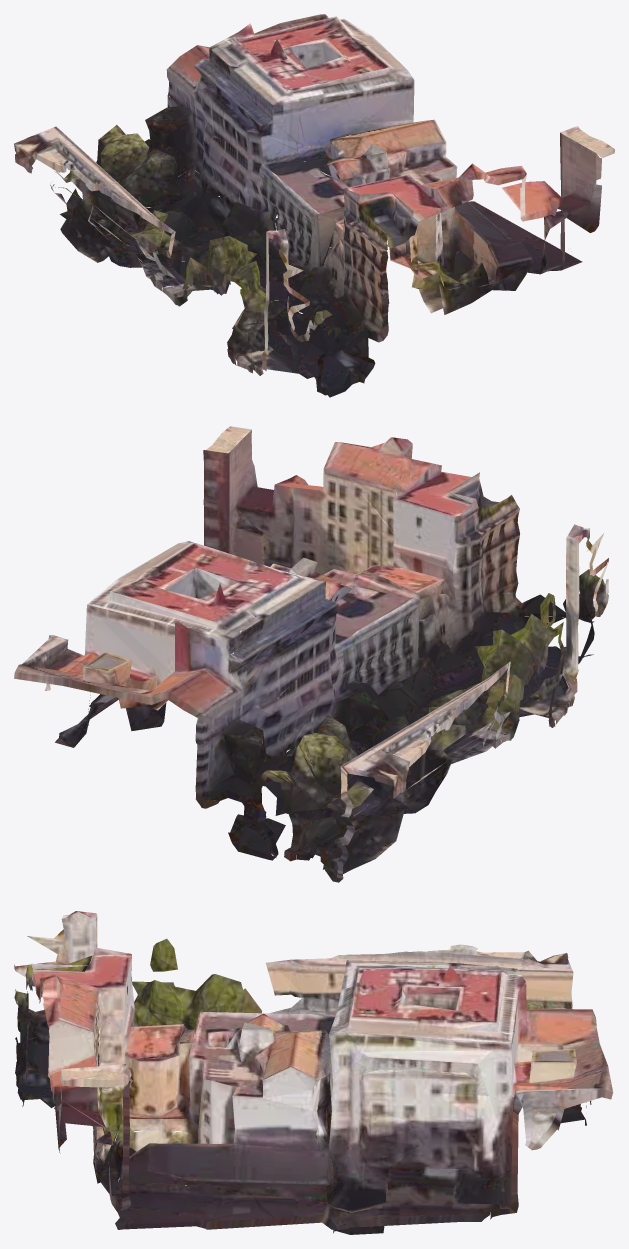
3 renders of one model, top to bottom at view 1: azimuth 30°, elevation 25°; view 2: azimuth 150°, elevation 25°; view 3: azimuth 270°, elevation 25°, orthographic. The views are drawn at different scales.
Parts seen in each view (by area): view 1: Mesh_0; view 2: Mesh_0; view 3: Mesh_0.
Boxes of the visible parts, <box> form: Mesh_0: <box>14,14,614,397</box>; Mesh_0: <box>14,426,608,882</box>; Mesh_0: <box>14,911,613,1234</box>.
Bounding box in the file's own units: 66.57 × 33.17 × 82.66.
Materials: 1 (1 with a texture image).
